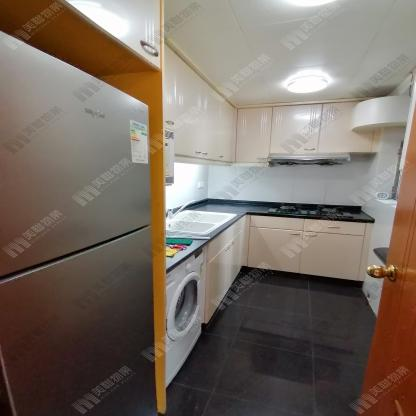Cupboard: (162, 40, 389, 165), (205, 213, 376, 325), (64, 0, 162, 67)
Exhaust Hood: (267, 152, 351, 165)
Fridge: (0, 30, 161, 416)
Sink: (165, 208, 240, 235)
Stove: (267, 204, 353, 218)
Washing Machine: (161, 242, 203, 391)
